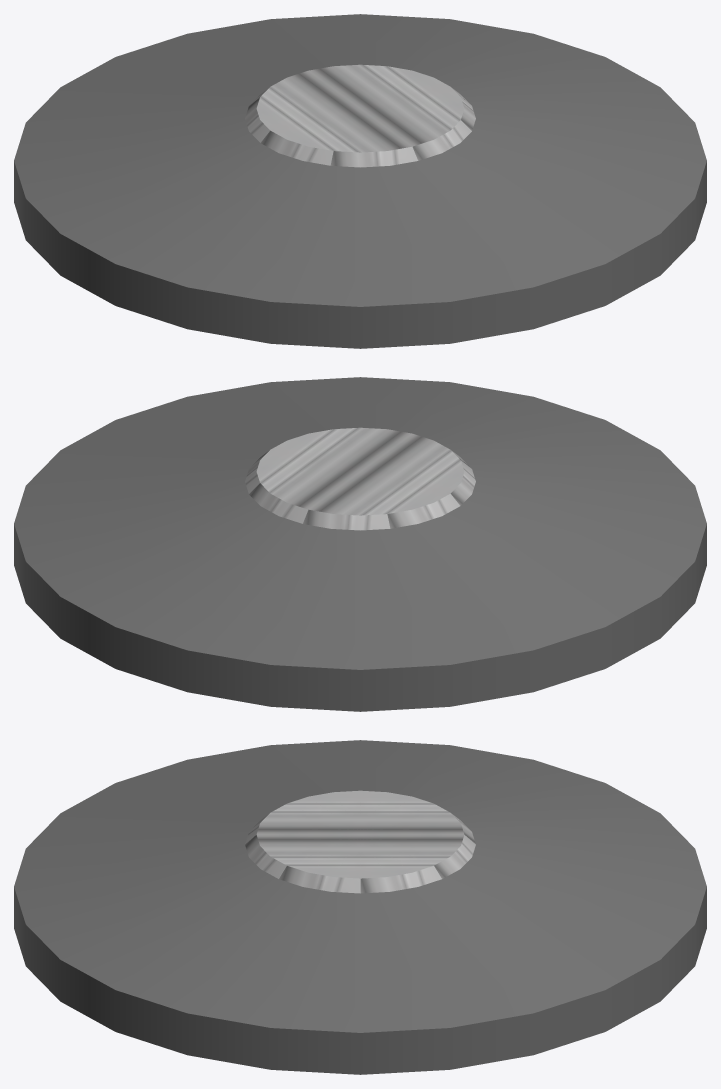
Rendered from vega_adapter_s1p5_s0_1.obj.
3 renders of one model, top to bottom at view 1: azimuth 30°, elevation 25°; view 2: azimuth 150°, elevation 25°; view 3: azimuth 270°, elevation 25°, orthographic.
Parts seen in each view (by area): view 1: vega_adapter_s1p5_s0_1; view 2: vega_adapter_s1p5_s0_1; view 3: vega_adapter_s1p5_s0_1.
Boxes of the visible parts, box(x1,y1,x2,y2) form: vega_adapter_s1p5_s0_1: box(14, 14, 706, 348); vega_adapter_s1p5_s0_1: box(14, 377, 706, 711); vega_adapter_s1p5_s0_1: box(14, 740, 706, 1074).
Size of the model in its own units: 1.88 by 0.28 by 1.88.
